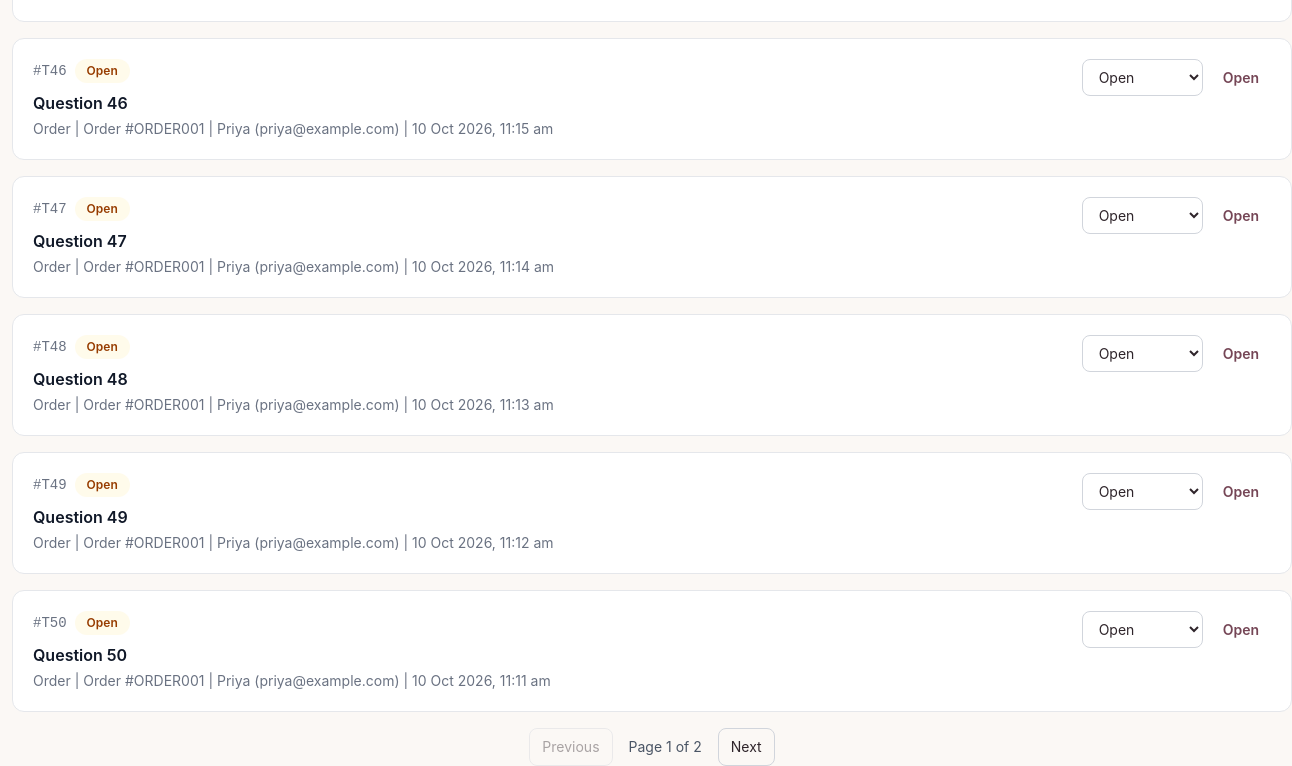
Test: resolving the last tickets on the last page goes back to the page before
(page scrolled)
Click the button "Next" at (746, 747), box [718, 728, 775, 765]
(page scrolled)
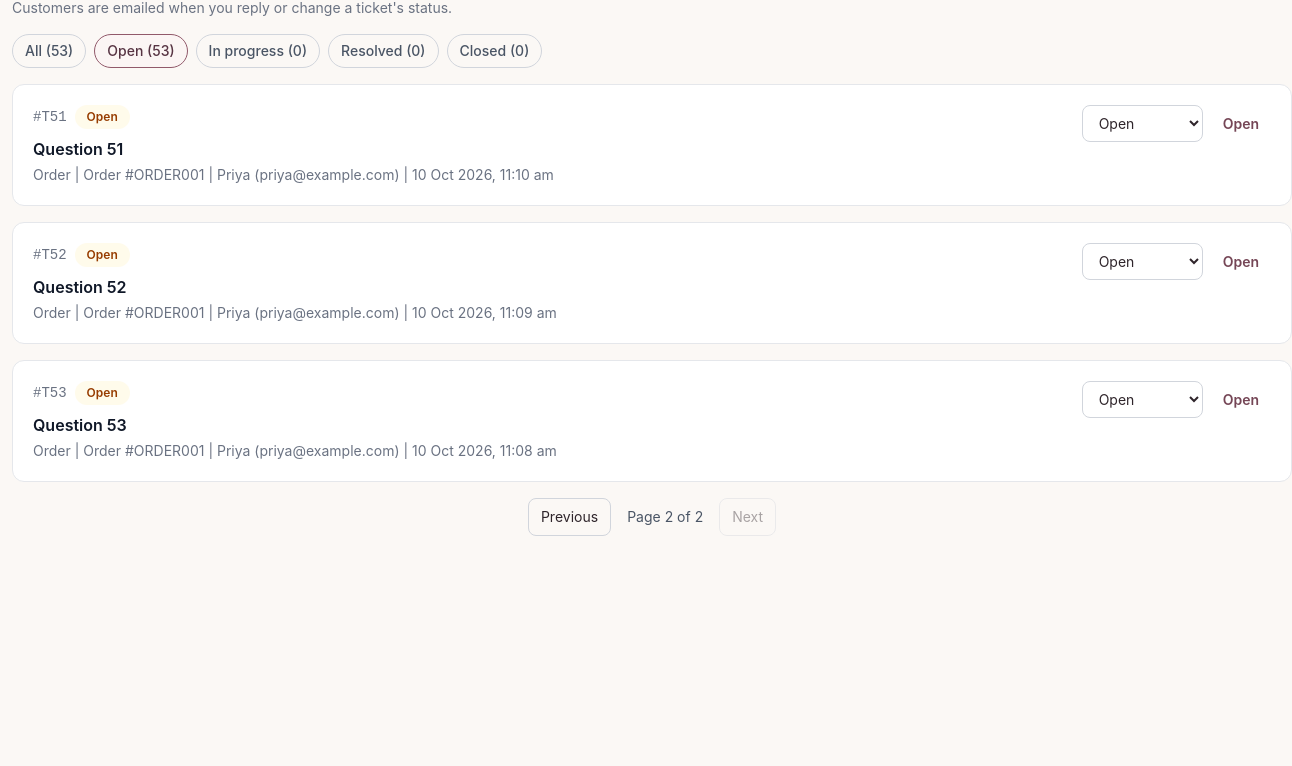
Result: the number of dropdowns named "Ticket status" is 3
Select "Resolved" in the 1st dropdown named "Ticket status" at (1142, 124), box [1082, 105, 1203, 142]
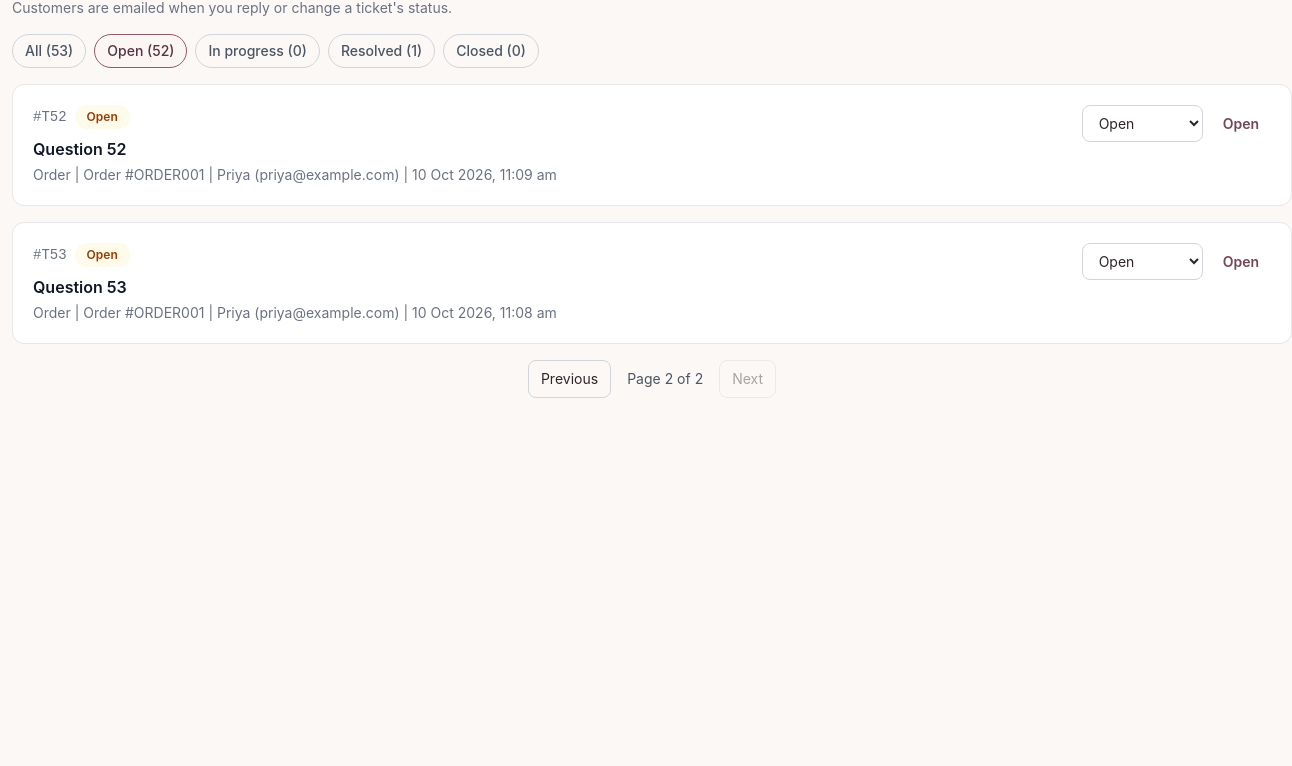
Select "Resolved" in the 1st dropdown named "Ticket status" at (1142, 124), box [1082, 105, 1203, 142]
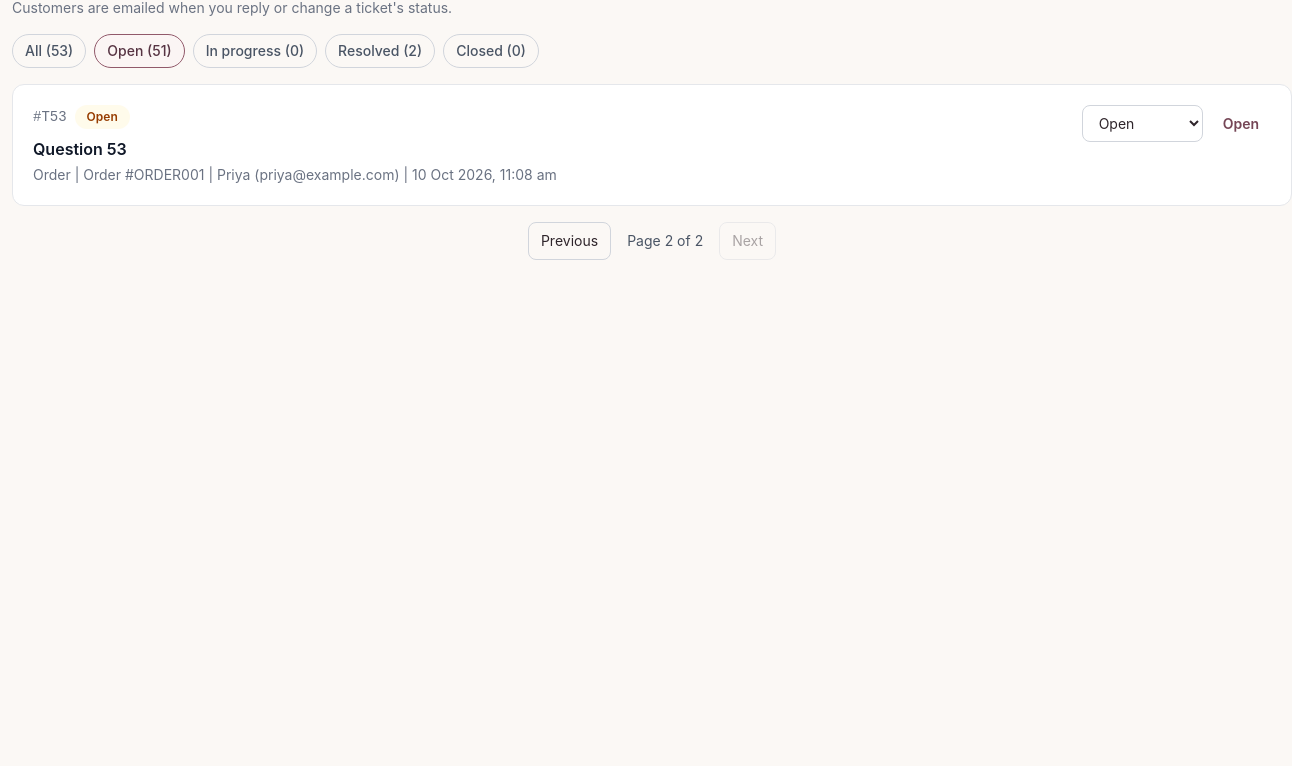
Select "Resolved" in the dropdown named "Ticket status" at (1142, 124), box [1082, 105, 1203, 142]
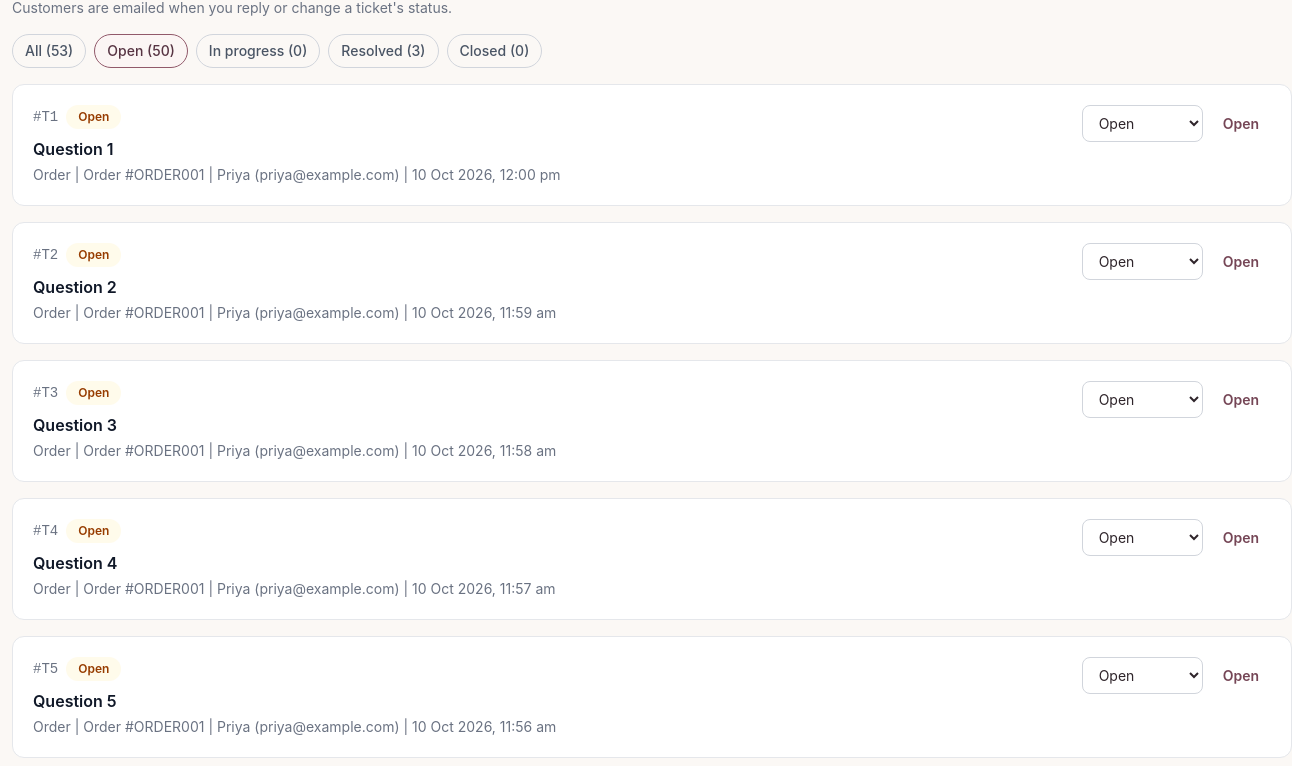
Result: the number of dropdowns named "Ticket status" is 50
